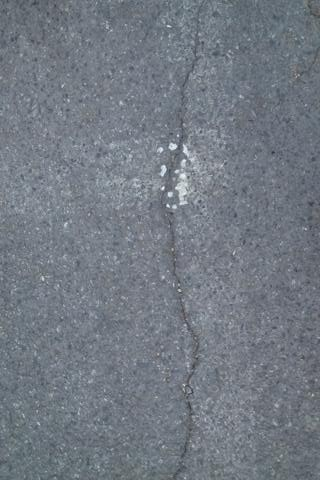A: (164, 4, 206, 480)
